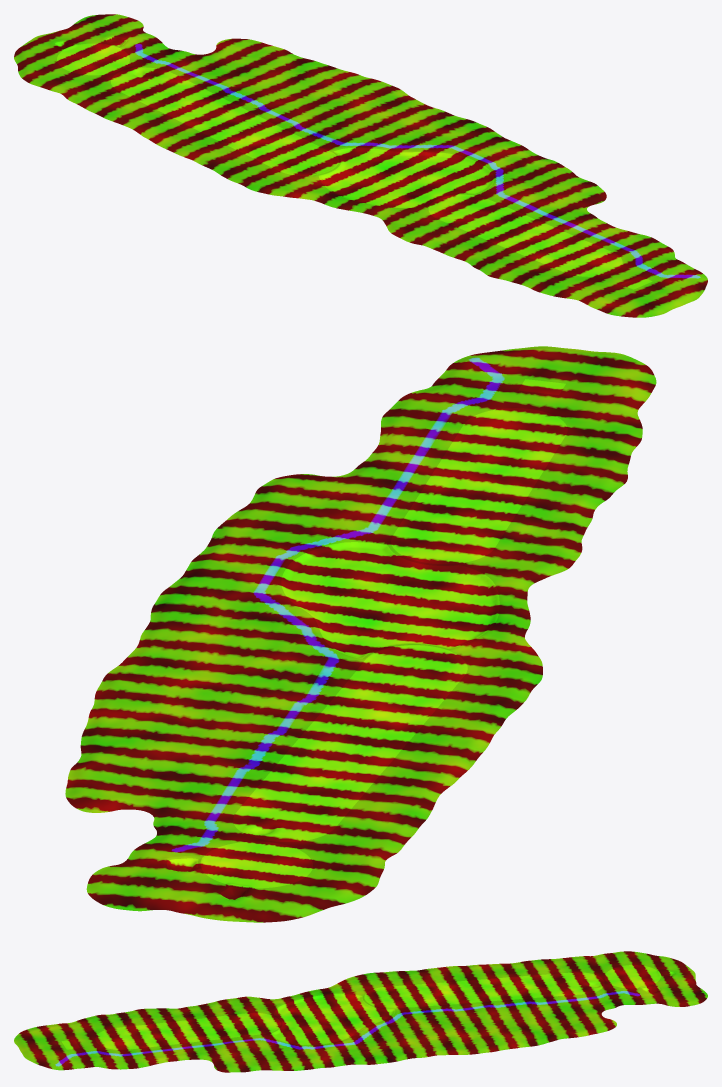
File: SM_H18_IslandTop.fbx
The picture shows the model from 3 angles, top to bottom: view 1: azimuth 30°, elevation 25°; view 2: azimuth 150°, elevation 25°; view 3: azimuth 270°, elevation 25°; orthographic projection. The views are drawn at different scales.
Visible parts, largest first — view 1: SM_H18_IslandTop; view 2: SM_H18_IslandTop; view 3: SM_H18_IslandTop.
Boxes of the visible parts, box(x1,y1,x2,y2) form: SM_H18_IslandTop: box(14, 14, 707, 317); SM_H18_IslandTop: box(65, 346, 656, 922); SM_H18_IslandTop: box(14, 951, 707, 1072).
Size of the model in its own units: 163 by 2.84 by 395.
